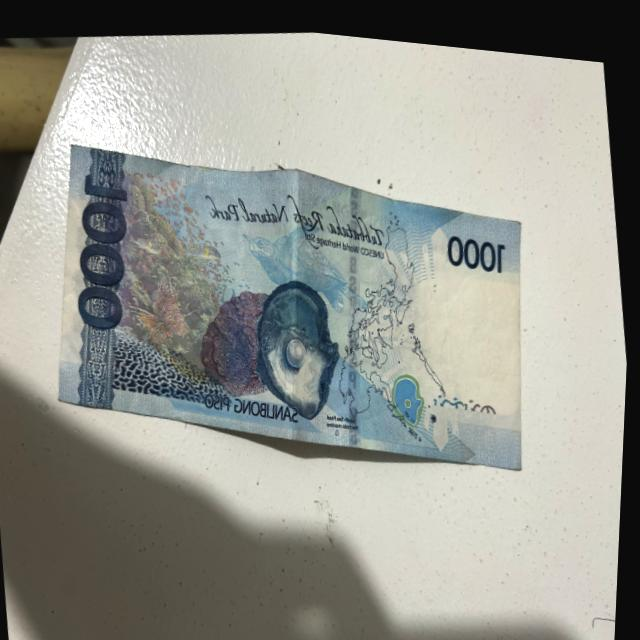1000_pearl: (251, 266, 354, 417)
1000_pearl_watermark: (392, 357, 433, 423)
